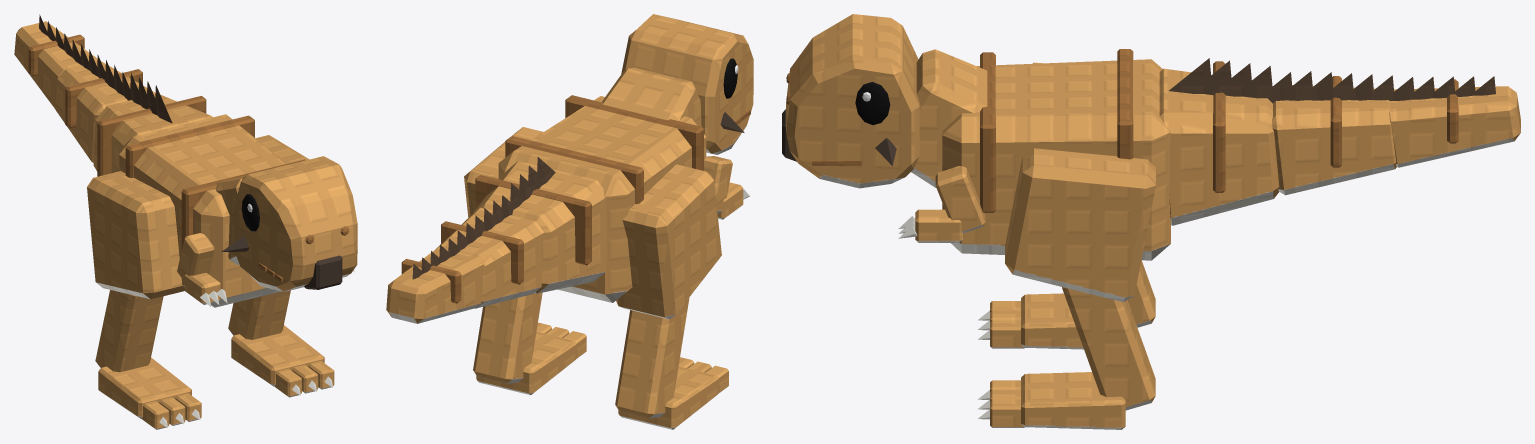
Rendered from 24_Psittacosaurus.glb.
3 views of the same model, side by side, from view 1: azimuth 30°, elevation 25°; view 2: azimuth 150°, elevation 25°; view 3: azimuth 270°, elevation 25° (orthographic). The views are drawn at different scales.
Parts seen in each view (by area): view 1: 24_Psittacosaurus; view 2: 24_Psittacosaurus; view 3: 24_Psittacosaurus.
Part boxes in pixels (x1=…): 24_Psittacosaurus: x1=14, y1=14, x2=357, y2=429; 24_Psittacosaurus: x1=386, y1=14, x2=753, y2=429; 24_Psittacosaurus: x1=782, y1=14, x2=1520, y2=429.
Bounding box in the file's own units: 1.41 × 1.96 × 3.87.
1 material, 1 textured.
